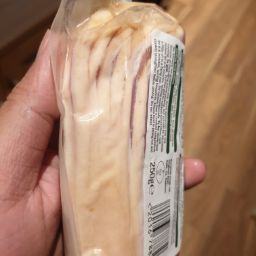Bacon: (43, 2, 157, 256), (26, 5, 210, 41)
